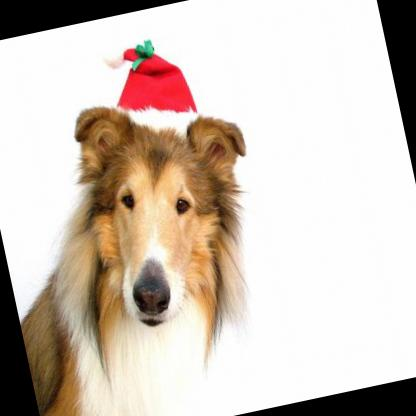collie: (0, 79, 296, 416)
